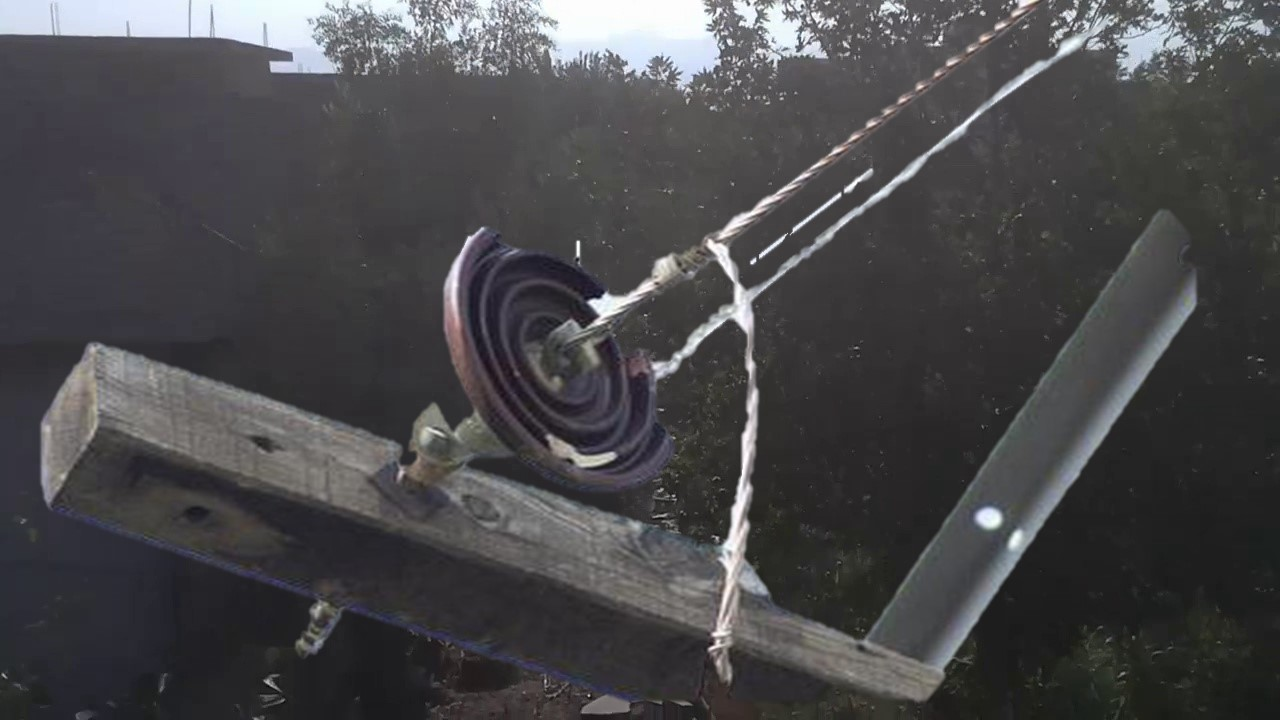defect_disc: (425, 211, 686, 502)
